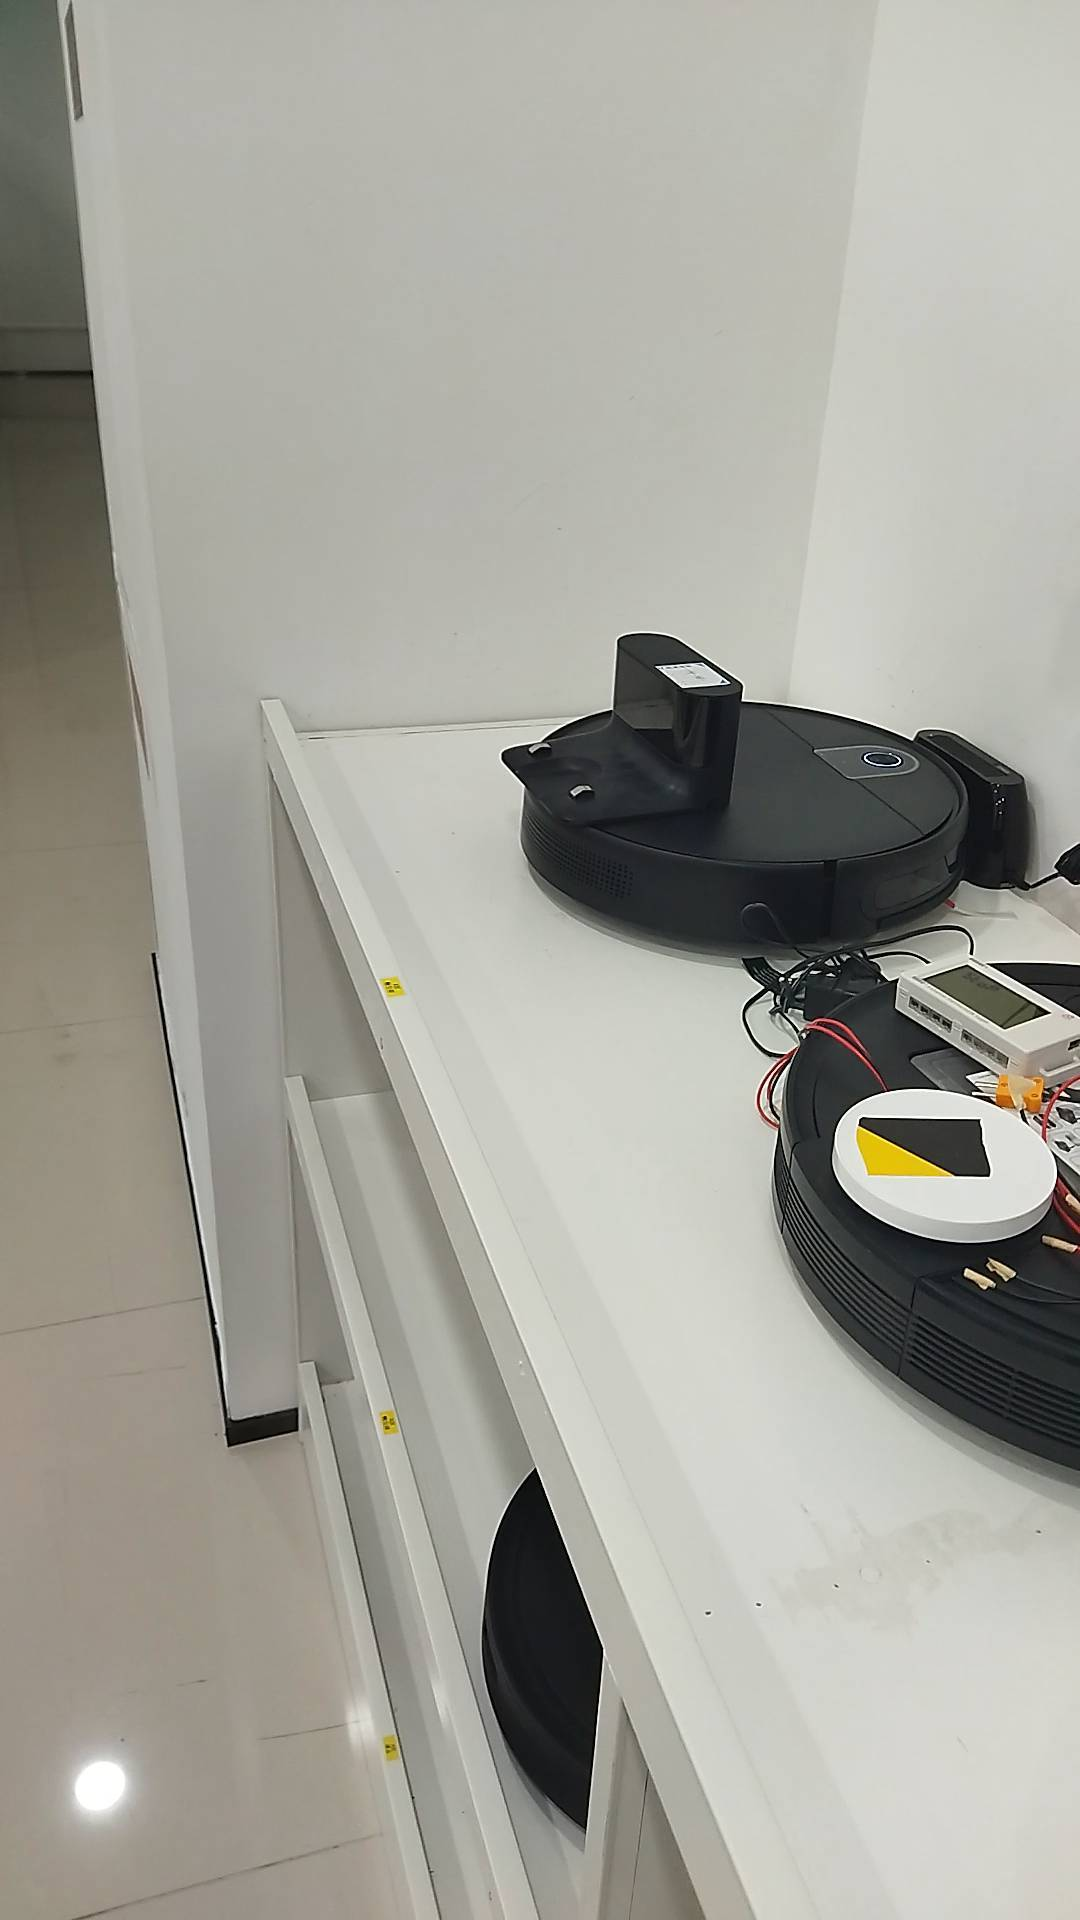recharge seat: (496, 632, 742, 829)
